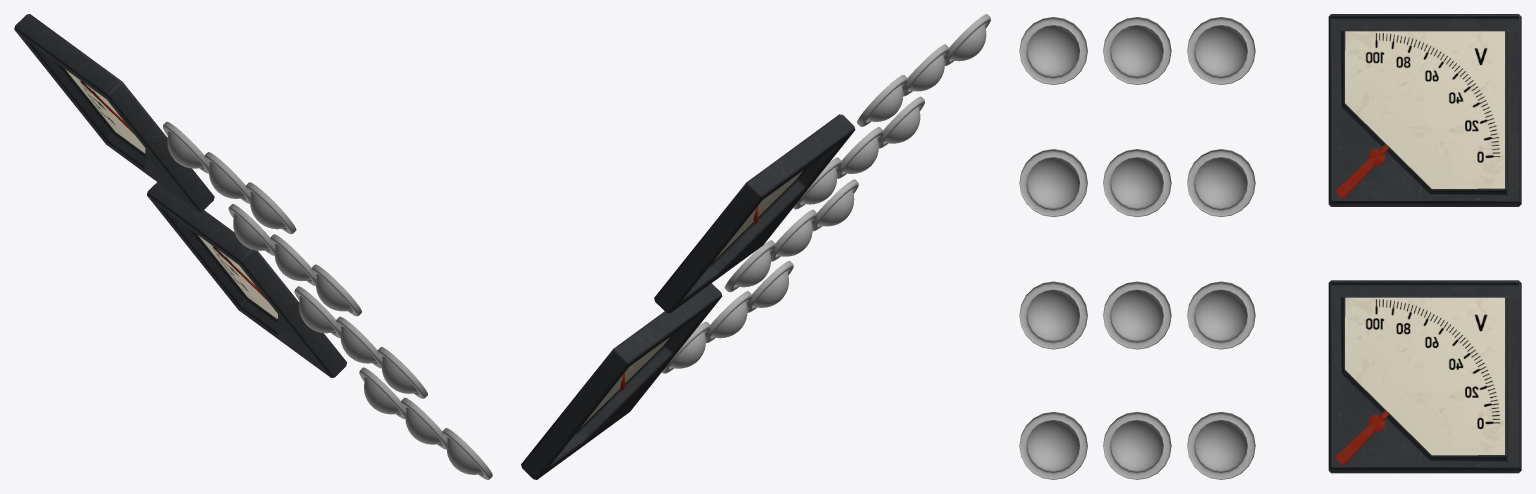
Rendered from SpaceTonnelKnobs.fbx.
3 renders of one model, left to right at view 1: azimuth 30°, elevation 25°; view 2: azimuth 150°, elevation 25°; view 3: azimuth 270°, elevation 25°, orthographic.
Visible parts, largest first — view 1: GaugeQuad1, GaugeQuad2, separated_17, separated_21, separated_15, separated_22; view 2: GaugeQuad1, GaugeQuad2, separated_22, separated_15, separated_17, separated_21; view 3: GaugeQuad2, GaugeQuad1, separated_22, separated_21, separated_15, separated_17.
Boxes of the visible parts, x1,y1,x2,y2 form: GaugeQuad1: (14,14,214,212); GaugeQuad2: (147,182,346,377); separated_17: (228,204,361,316); separated_21: (359,367,492,479); separated_15: (163,121,296,234); separated_22: (294,286,427,398); GaugeQuad1: (654,114,855,313); GaugeQuad2: (521,283,722,479); separated_22: (724,179,858,292); separated_15: (857,14,990,126); separated_17: (793,96,924,209); separated_21: (662,261,793,373); GaugeQuad2: (1328,280,1521,473); GaugeQuad1: (1328,14,1521,206); separated_22: (1019,281,1255,349); separated_21: (1019,411,1255,479); separated_15: (1019,17,1255,84); separated_17: (1019,149,1255,217).
Bounding box in the file's own units: 25.5 × 35.12 × 45.14.
